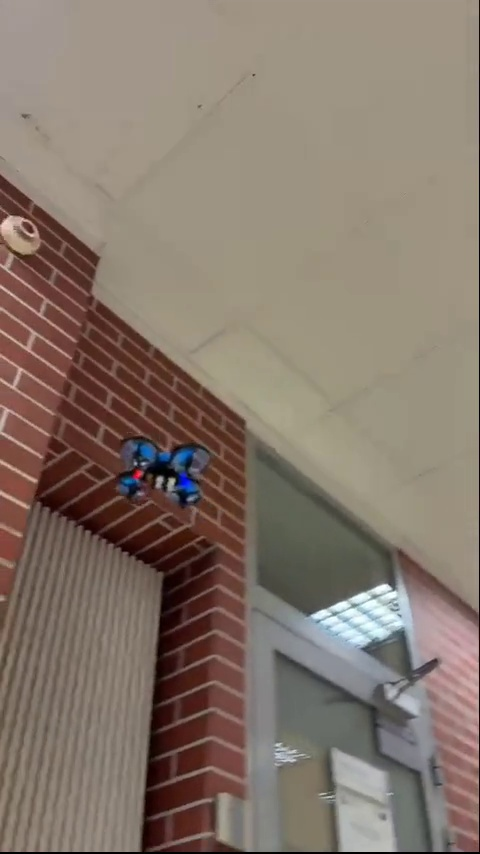drone: (117, 440, 210, 505)
